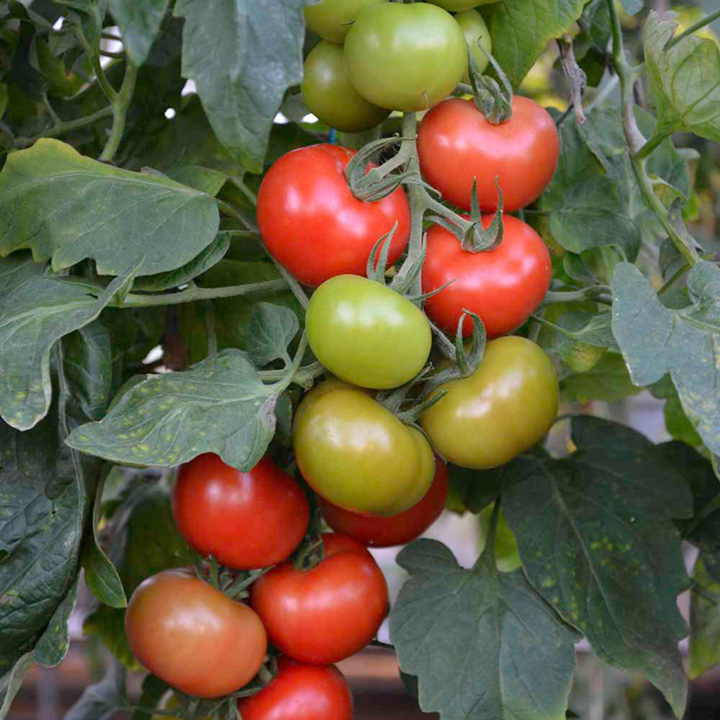tomato: (256, 142, 412, 289), (418, 336, 561, 472), (292, 381, 434, 515), (248, 533, 388, 665), (124, 568, 266, 698), (419, 94, 560, 212), (420, 215, 553, 340), (173, 452, 310, 570), (305, 274, 433, 388), (344, 3, 467, 110), (316, 456, 449, 546), (302, 41, 395, 134), (234, 653, 356, 720), (301, 1, 402, 45), (457, 7, 490, 92), (411, 1, 497, 12)
